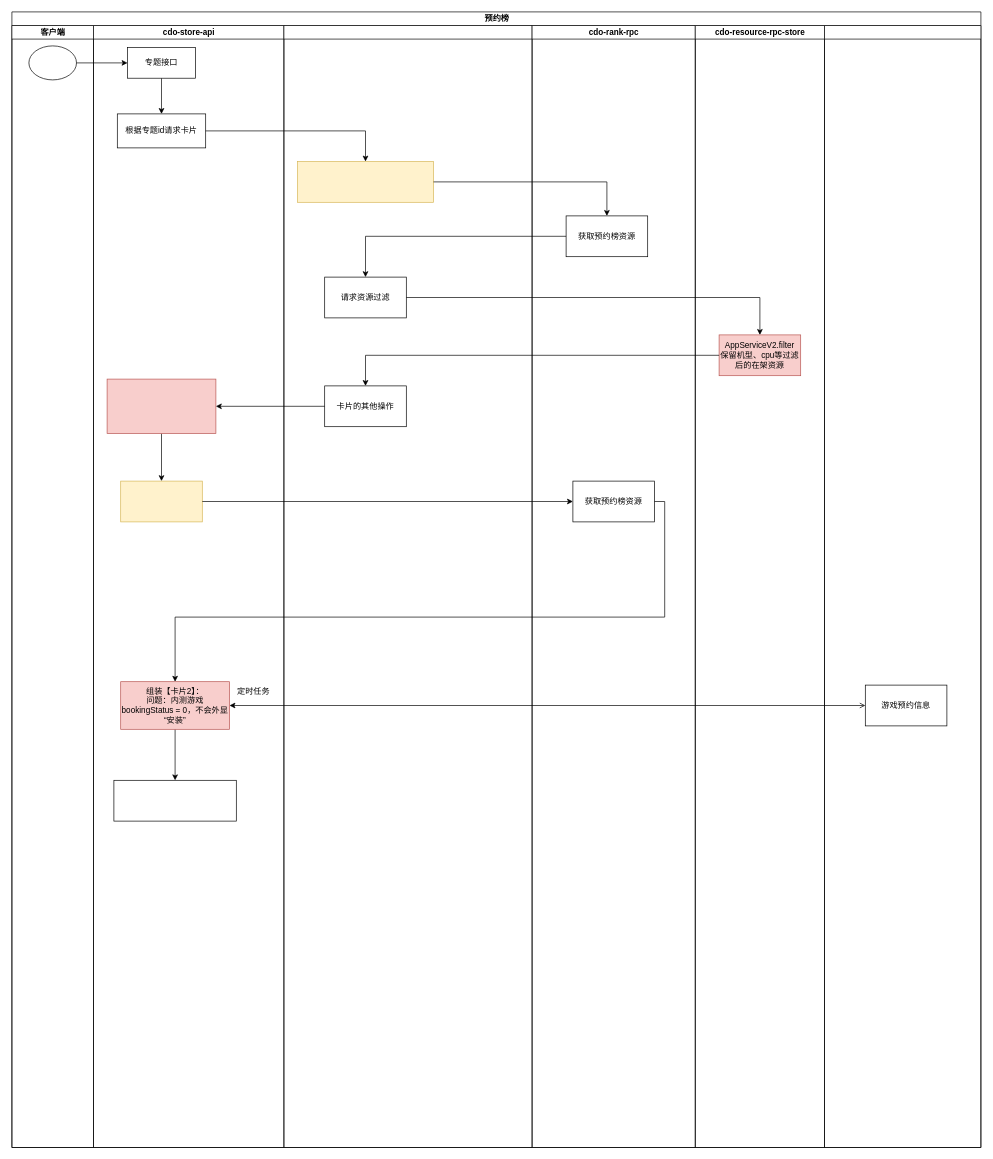
The diagram is 993 pixels wide and 1159 high, and some of its shapes have lost their labels. Here are the shapes that lost their labels. From the top down, the box of each, then its label:
(28, 45, 76, 80): 开始
(297, 161, 434, 202): queryV2 页面AB获取portal配置内容： 预约榜rank_id = 3108
(106, 378, 216, 434): 接收【卡片1】 问题：如果卡片为空，会无限追加【卡片2】
(120, 480, 202, 522): 获取配置中心： 预约榜rank_id = 3108
(283, 25, 532, 1148): cdo-page-rpc-store
(824, 25, 981, 1148): game-welfare
(113, 780, 236, 821): 组装【卡片1】+ 【卡片2】
